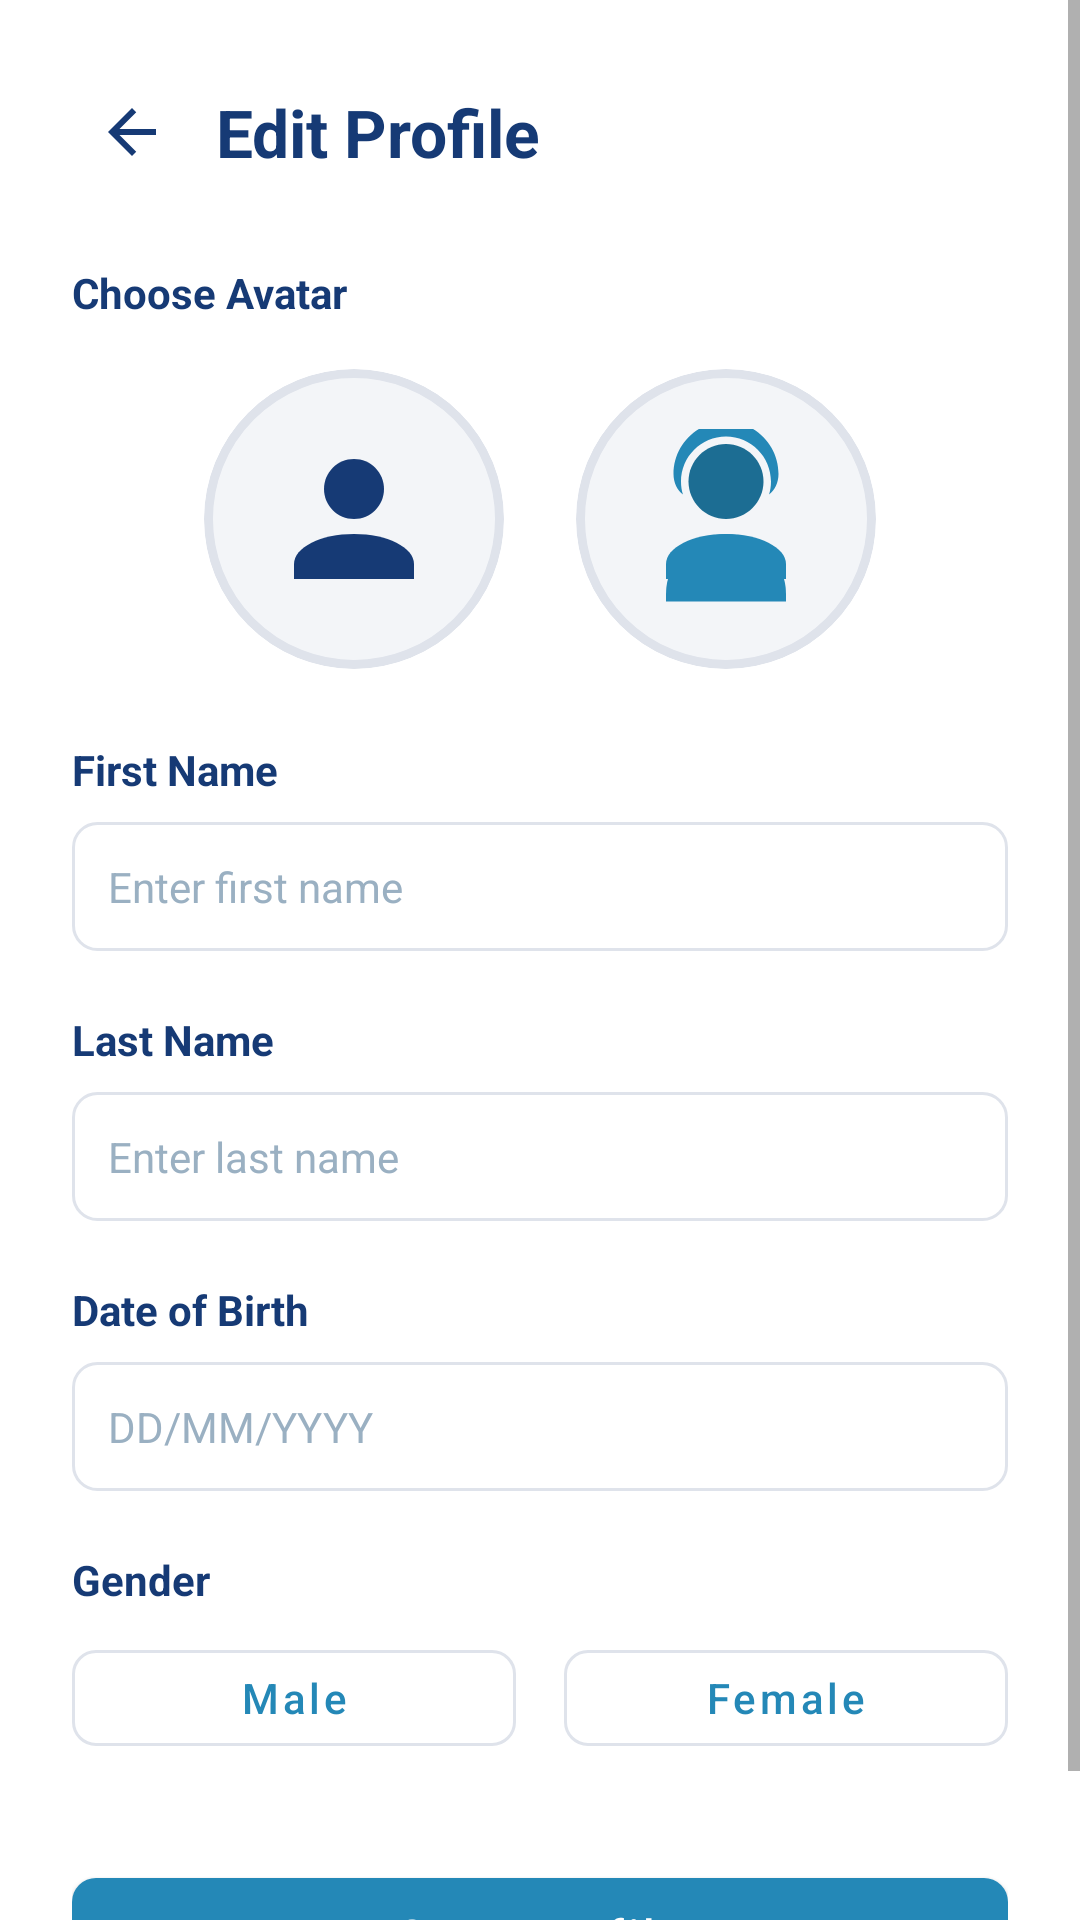

Locate icon controls on the screen. Image size 1080x1920, boxes as (x1, y1, x2, y2).
arrow back: (108, 108, 156, 156)
